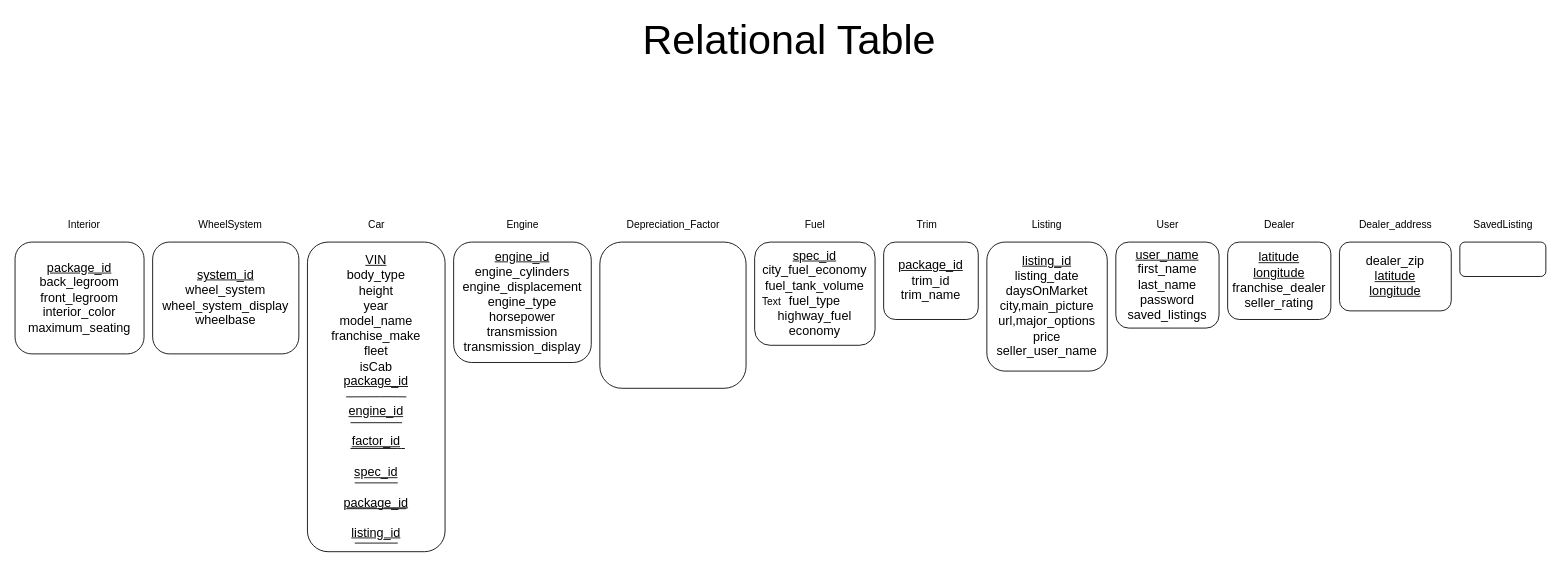
This 1561x567 diagram has some shape labels left out. Each missing label, with the centre of its shape:
"factor_id salvage saving _amount has_accidents owner_count frame_dam aged is_new" goes at (x=672, y=314).
"listing_id" goes at (x=1502, y=258).
